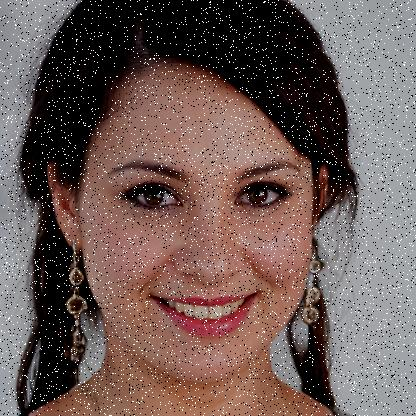eyeee: (230, 179, 298, 210), (114, 182, 188, 210)
mouthhz: (146, 288, 263, 339)
nosebb: (172, 202, 246, 286)
